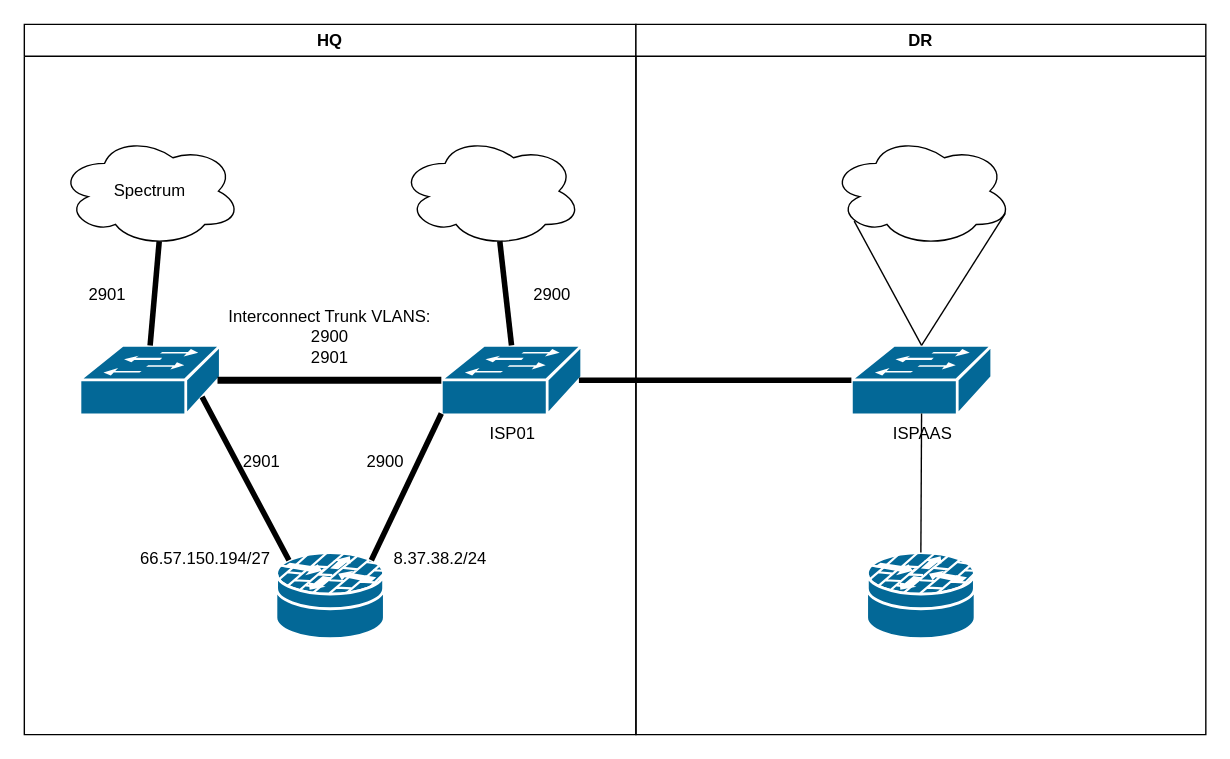
The diagram is 1230 pixels wide and 759 high, and some of its shapes have lost their labels. Each missing label, with the box of its shape:
ISP02: (78, 343, 221, 416)
L3: (398, 134, 582, 247)
SP ISPAAS: (829, 134, 1013, 247)
